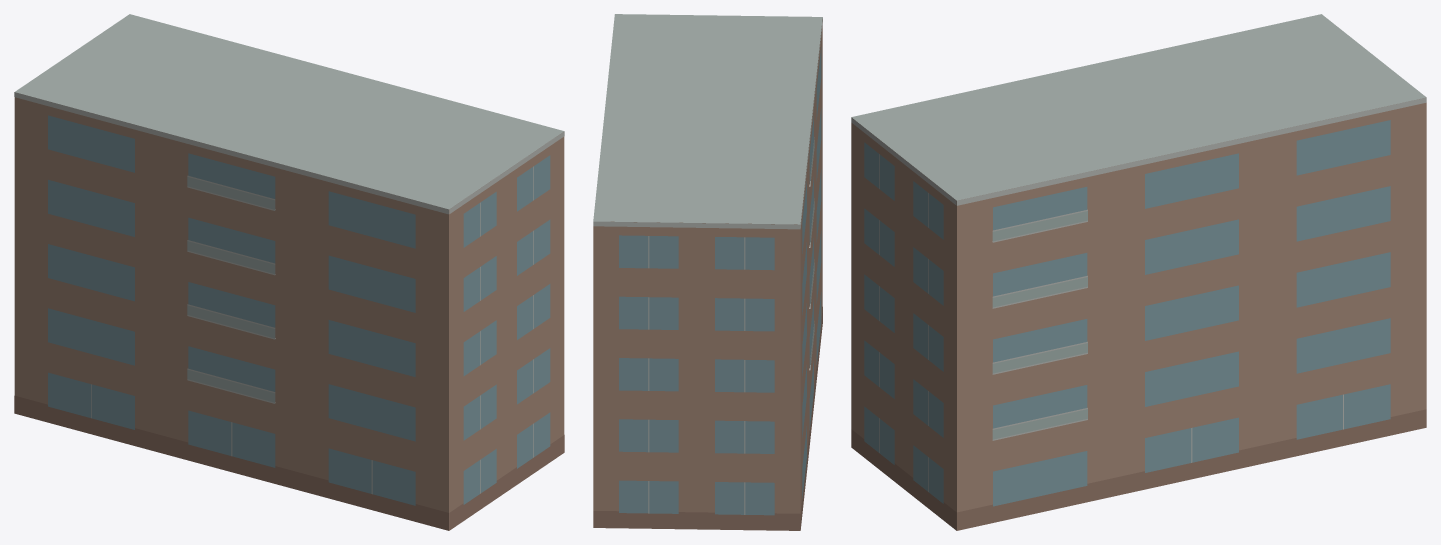
File: survey-upis-32836609.glb
3 renders of one model, left to right at view 1: azimuth 30°, elevation 25°; view 2: azimuth 150°, elevation 25°; view 3: azimuth 270°, elevation 25°, orthographic. The views are drawn at different scales.
Parts seen in each view (by area): view 1: survey-upis-32836609.tmp; view 2: survey-upis-32836609.tmp; view 3: survey-upis-32836609.tmp.
Part boxes in pixels (bbox=[...]): survey-upis-32836609.tmp: bbox=[14, 14, 564, 530]; survey-upis-32836609.tmp: bbox=[593, 14, 822, 530]; survey-upis-32836609.tmp: bbox=[851, 14, 1426, 530].
Bounding box in the file's own units: 18.74 × 15.45 × 24.41.
